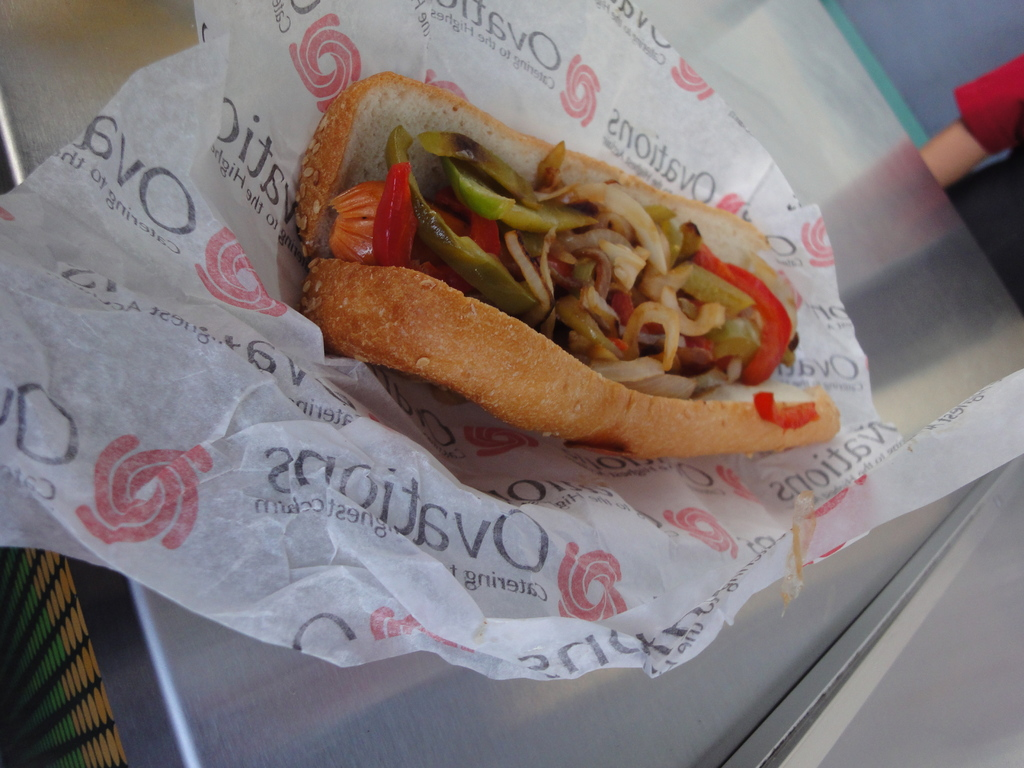hot_dog: (289, 64, 850, 461)
